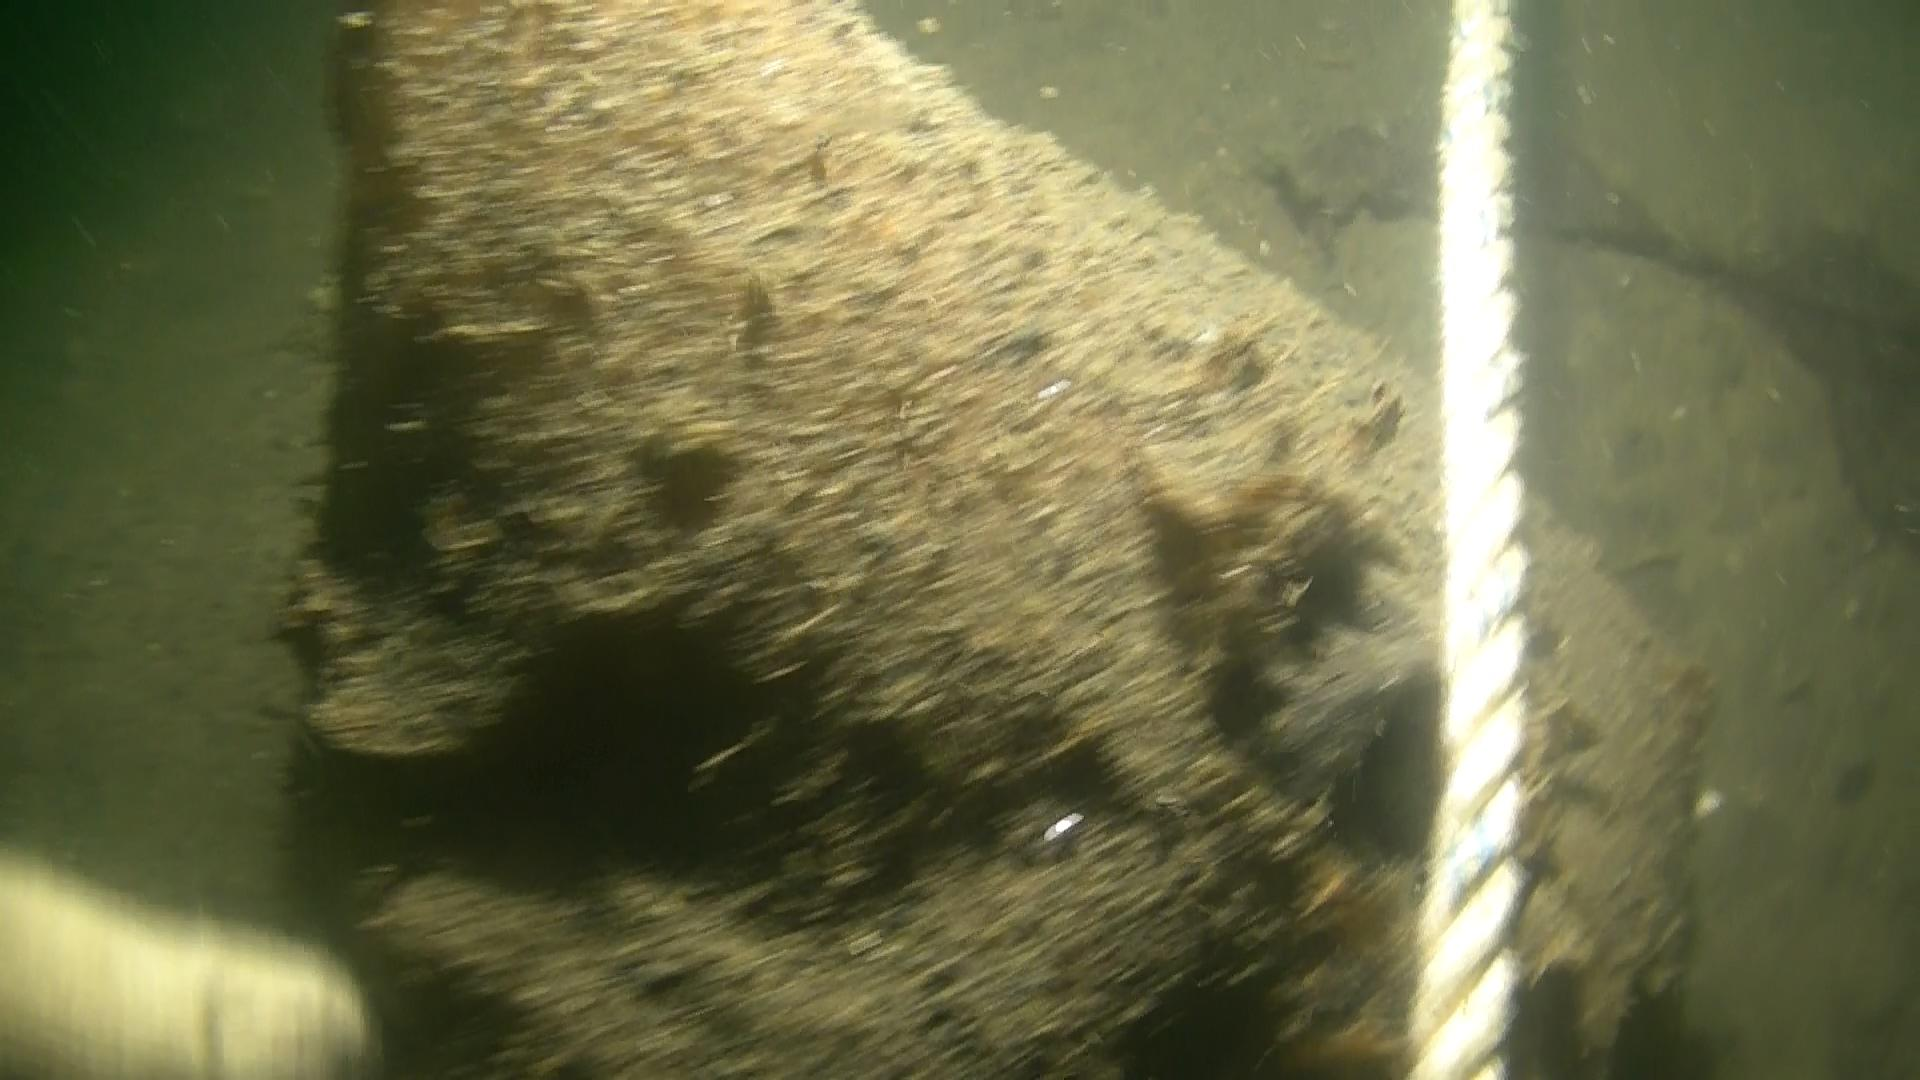rope: (1403, 0, 1528, 1080)
